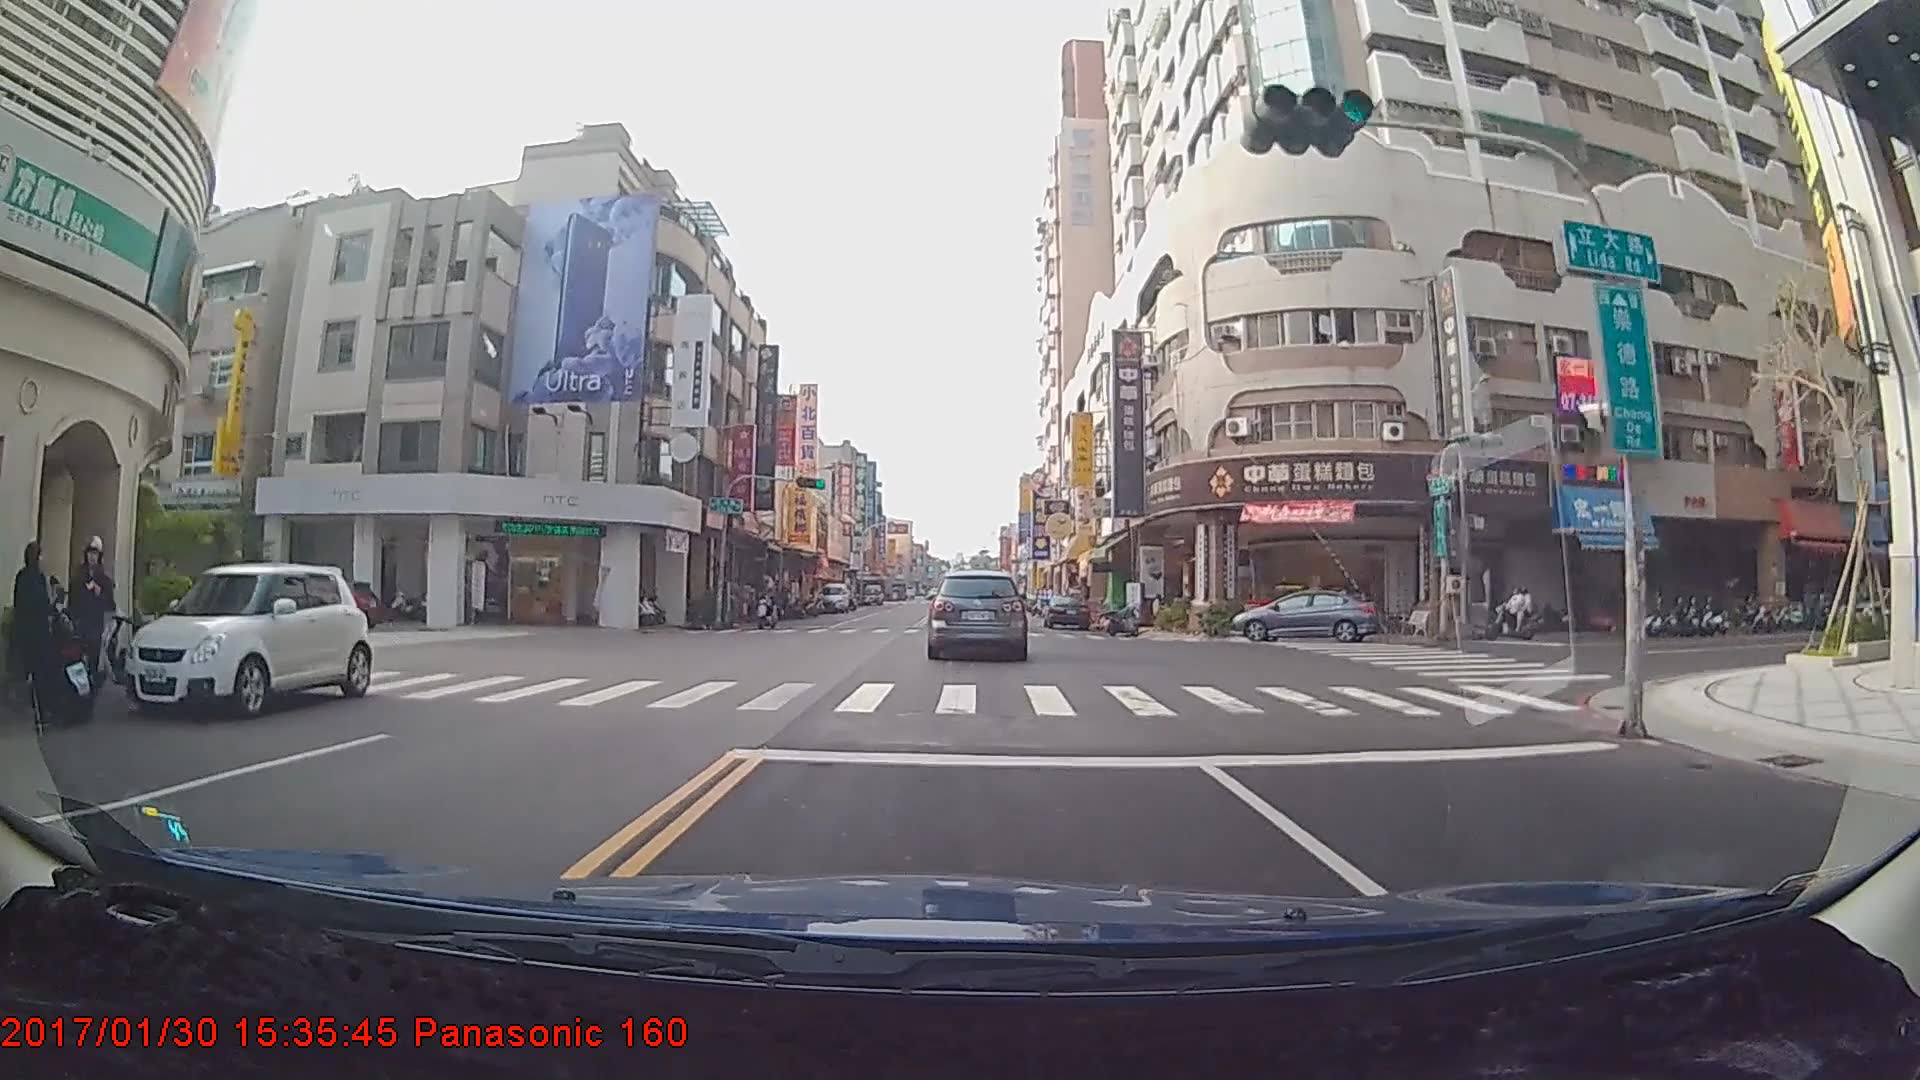pedestrian: (63, 526, 118, 712)
rider: (1482, 587, 1542, 640), (748, 579, 782, 632)
vehicle: (130, 564, 370, 716), (929, 571, 1027, 660), (1228, 587, 1381, 640), (1044, 594, 1092, 630), (817, 581, 850, 612)
